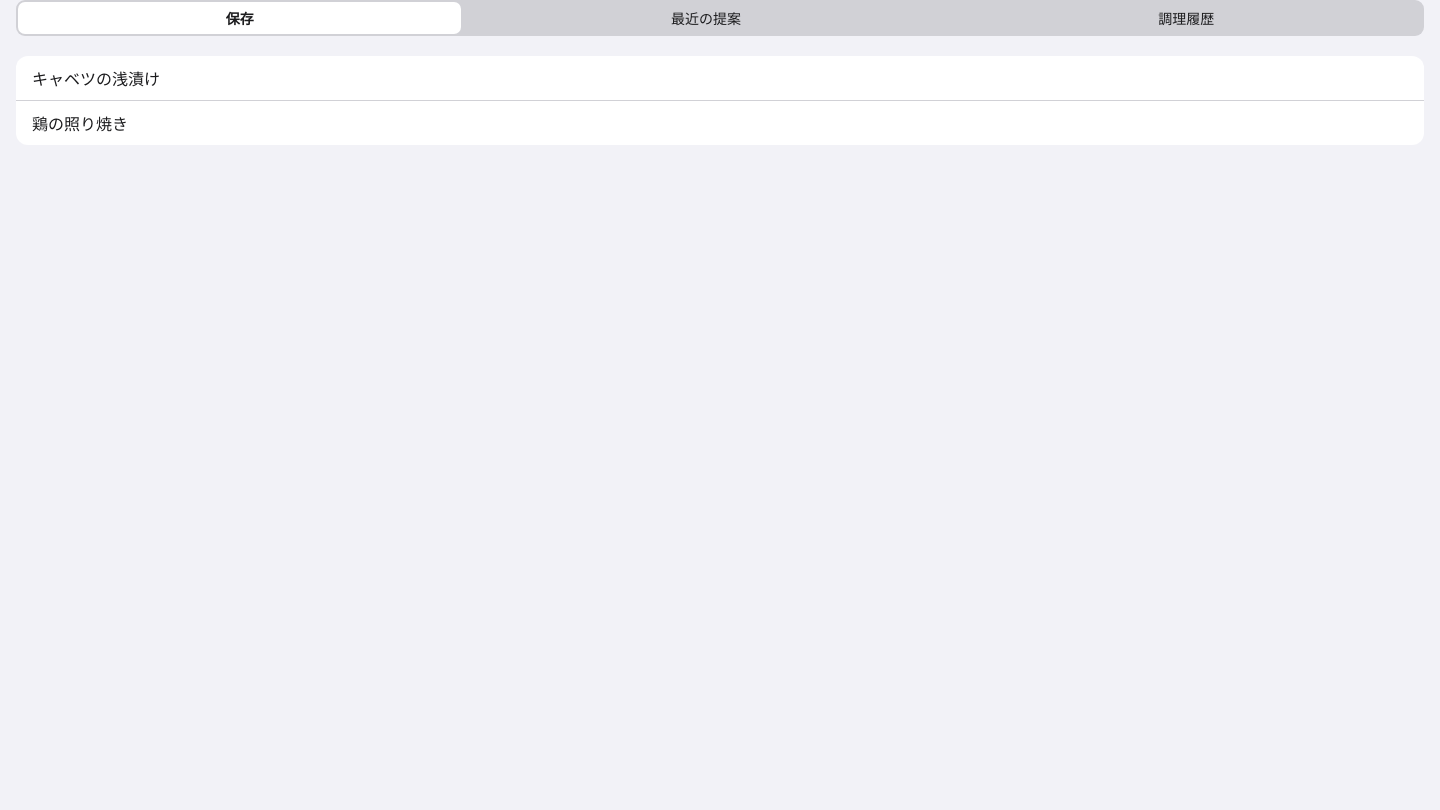
Test case: RecipesScreen ★保存した料理（D-39） › タップするとレシピを表示する
This screenshot has width=1440, height=810.
Click the button "鶏の照り焼き": (80, 124) [16,101,1424,145]
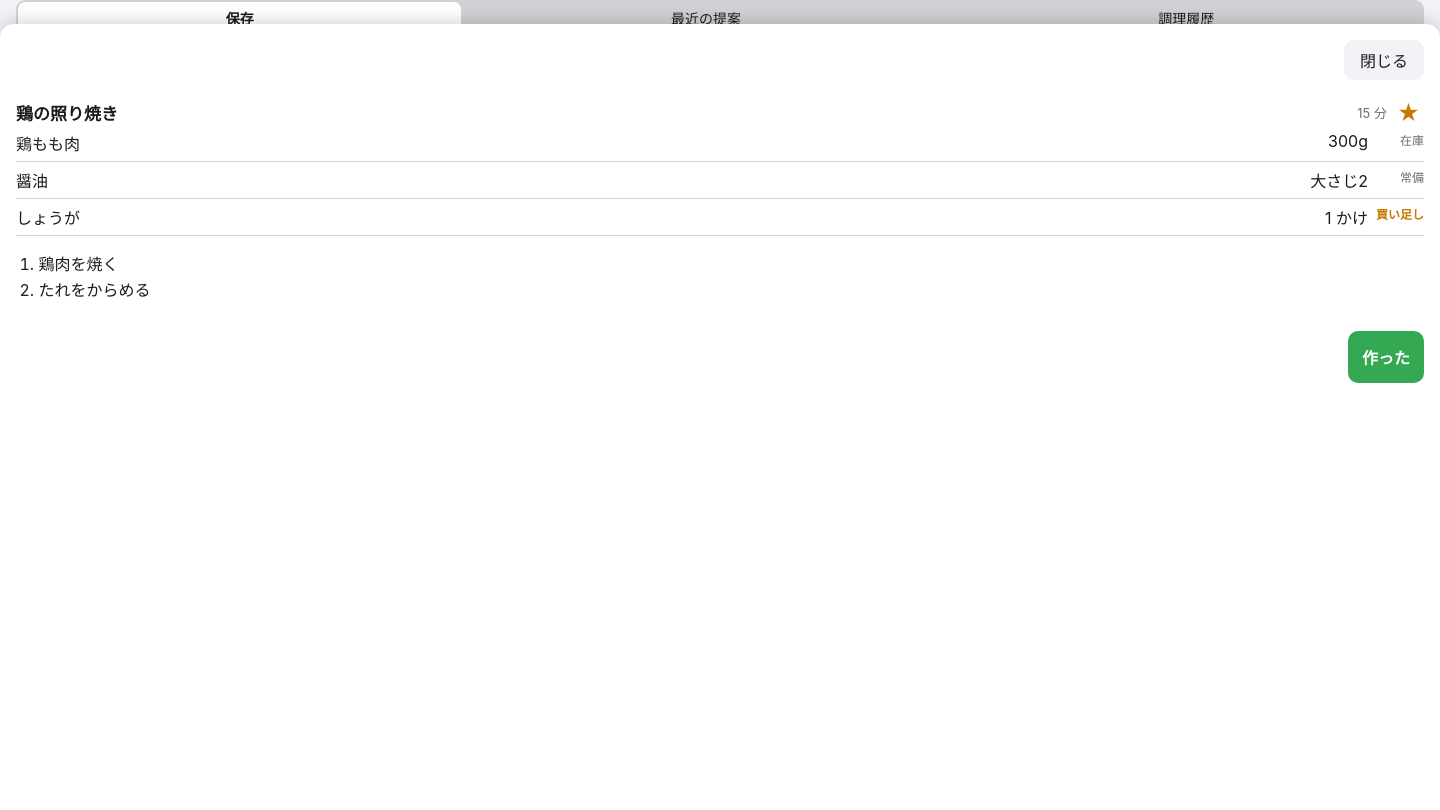
Expected: the list named "手順" shows "鶏肉を焼く", [38,254,118,274]
